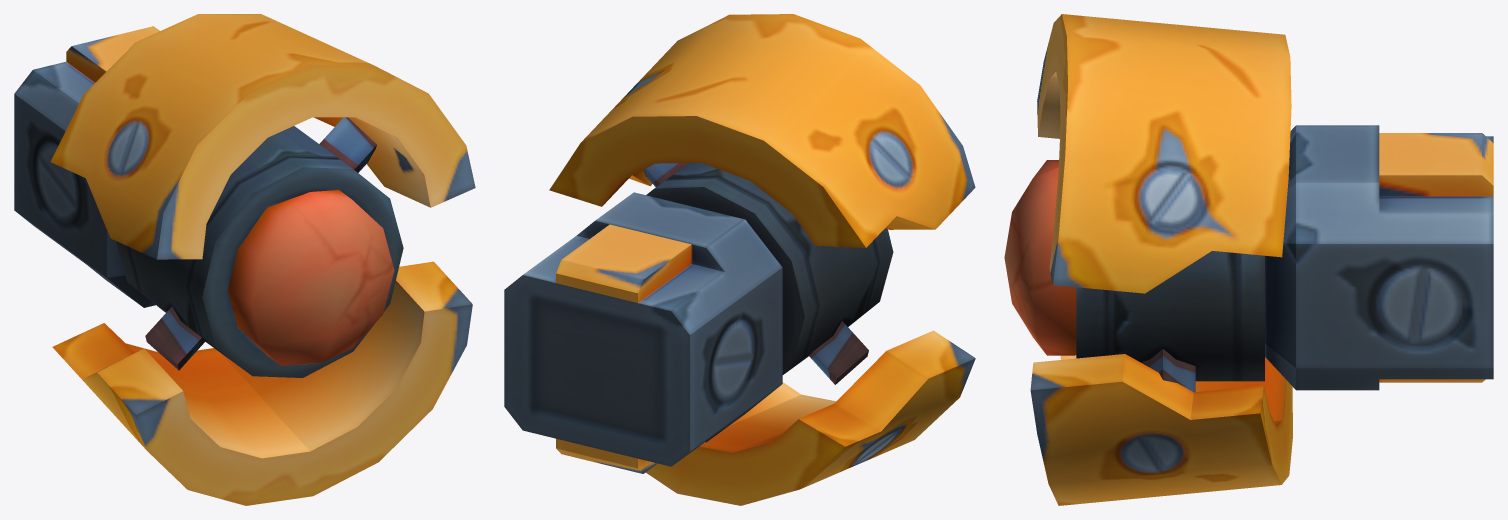
Rendered from env_ruin_lamp_01_lod0.fbx.
3 views of the same model, side by side, from view 1: azimuth 30°, elevation 25°; view 2: azimuth 150°, elevation 25°; view 3: azimuth 270°, elevation 25° (orthographic). The views are drawn at different scales.
Visible parts, largest first — view 1: env_ruin_ruinlamp; view 2: env_ruin_ruinlamp; view 3: env_ruin_ruinlamp.
Boxes of the visible parts, box(x1,y1,x2,y2) form: env_ruin_ruinlamp: box(14, 14, 475, 505); env_ruin_ruinlamp: box(504, 14, 975, 505); env_ruin_ruinlamp: box(1004, 14, 1493, 505).
Size of the model in its own units: 3.14 by 3.83 by 3.7.
